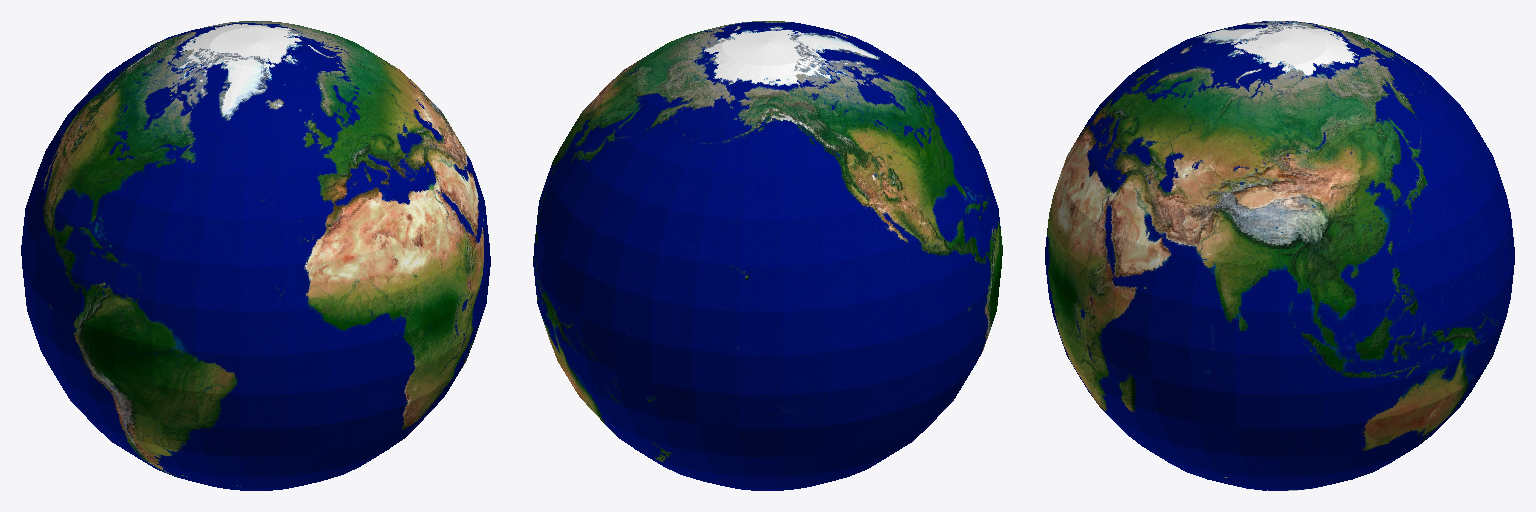
The picture shows the model from 3 angles: view 1: azimuth 30°, elevation 25°; view 2: azimuth 150°, elevation 25°; view 3: azimuth 270°, elevation 25°; orthographic projection.
Parts seen in each view (by area): view 1: Sphere001; view 2: Sphere001; view 3: Sphere001.
Part boxes in pixels (bbox=[...]): Sphere001: bbox=[21, 21, 490, 490]; Sphere001: bbox=[533, 21, 1002, 490]; Sphere001: bbox=[1045, 21, 1514, 490].
Size of the model in its own units: 97.17 by 97.17 by 97.17.
Materials: 1 (1 with a texture image).